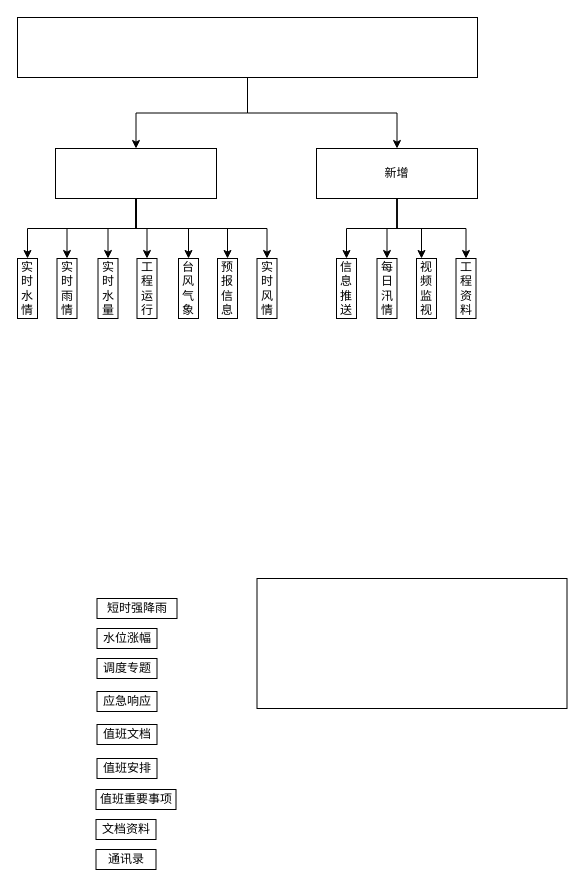
Image size: 585x887. Some labels were removed from this diagram. Each missing label, with the centre of its shape:
优化: point (135, 173)
太湖局移动服务平台优化提升: point (247, 47)
小时内降雨前 20 站点排名和降雨累计， 单站点的降雨过程数据列表及降雨柱状图。 查询指定时间段范围内降雨数据 。 关联到实时雨情功能模块: point (411, 643)
